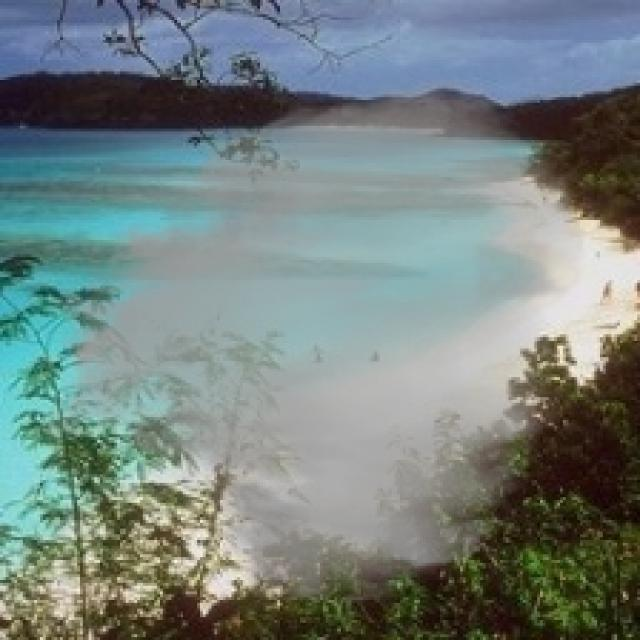smoke: (34, 77, 589, 609)
